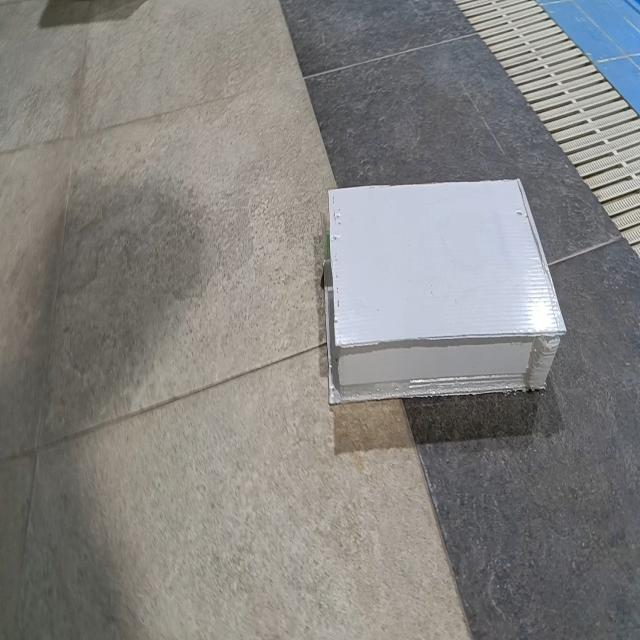Cuboid: (323, 176, 567, 405)
